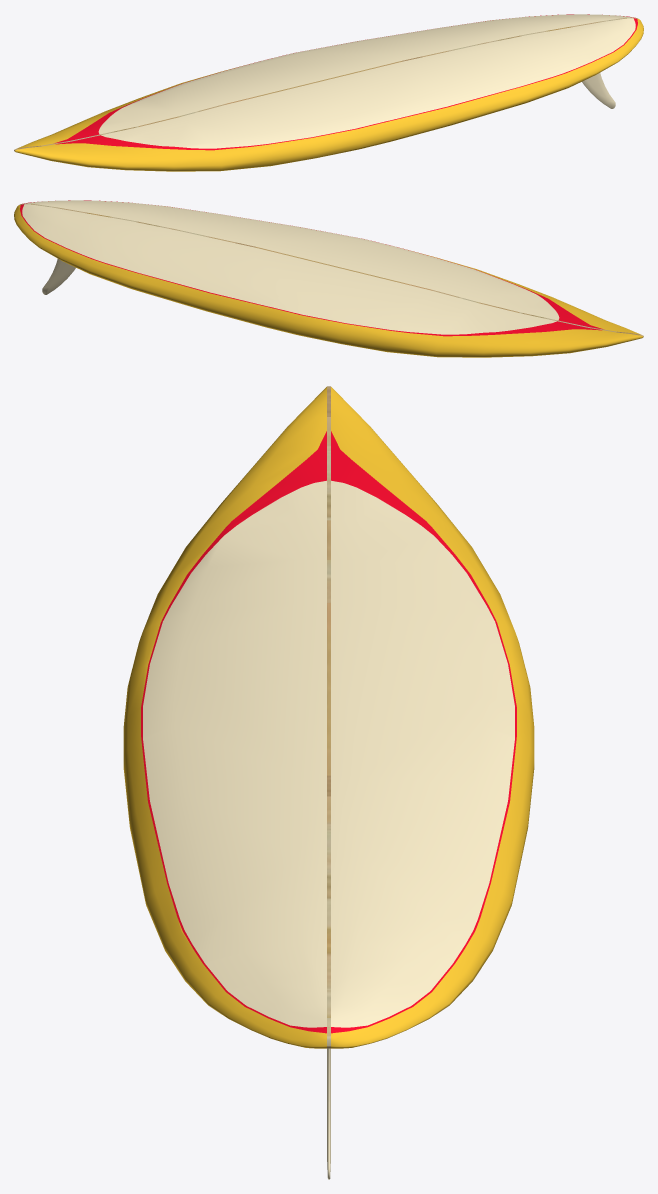
File: Surfboard.dae
The picture shows the model from 3 angles, top to bottom: view 1: azimuth 30°, elevation 25°; view 2: azimuth 150°, elevation 25°; view 3: azimuth 270°, elevation 25°; orthographic projection. The views are drawn at different scales.
Parts seen in each view (by area): view 1: Half_Board (×6), String, Skeg; view 2: Half_Board (×6), String, Skeg; view 3: Half_Board (×6), String.
Boxes of the visible parts, x1,y1,x2,y2 form: Half_Board (×6): (15,14,643,171); String: (14,17,638,151); Skeg: (582,73,615,108); Half_Board (×6): (14,200,642,357); String: (19,203,643,337); Skeg: (42,259,75,294); Half_Board (×6): (123,387,534,1048); String: (327,386,330,1048).
Bounding box in the file's own units: 83.95 × 23.86 × 13.45.
Materials: 5 (1 with a texture image).
